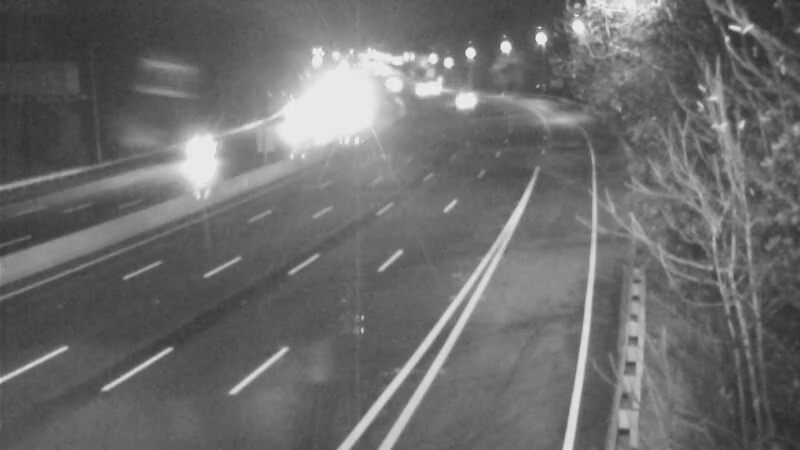vehicle: (160, 113, 240, 193), (401, 60, 451, 110), (435, 73, 485, 123)
